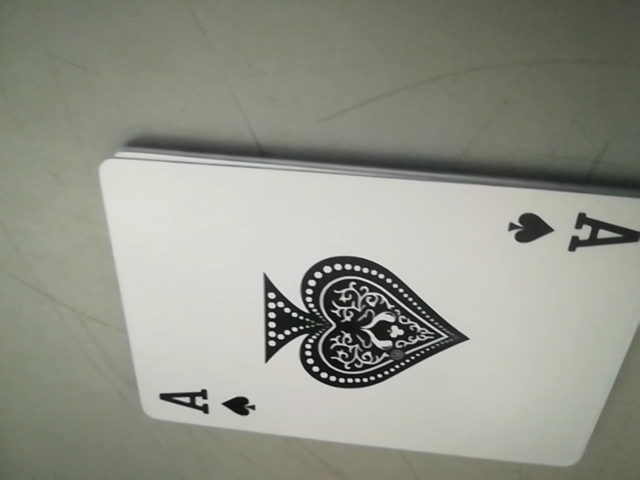ht a: (501, 198, 639, 266), (150, 384, 267, 422)
